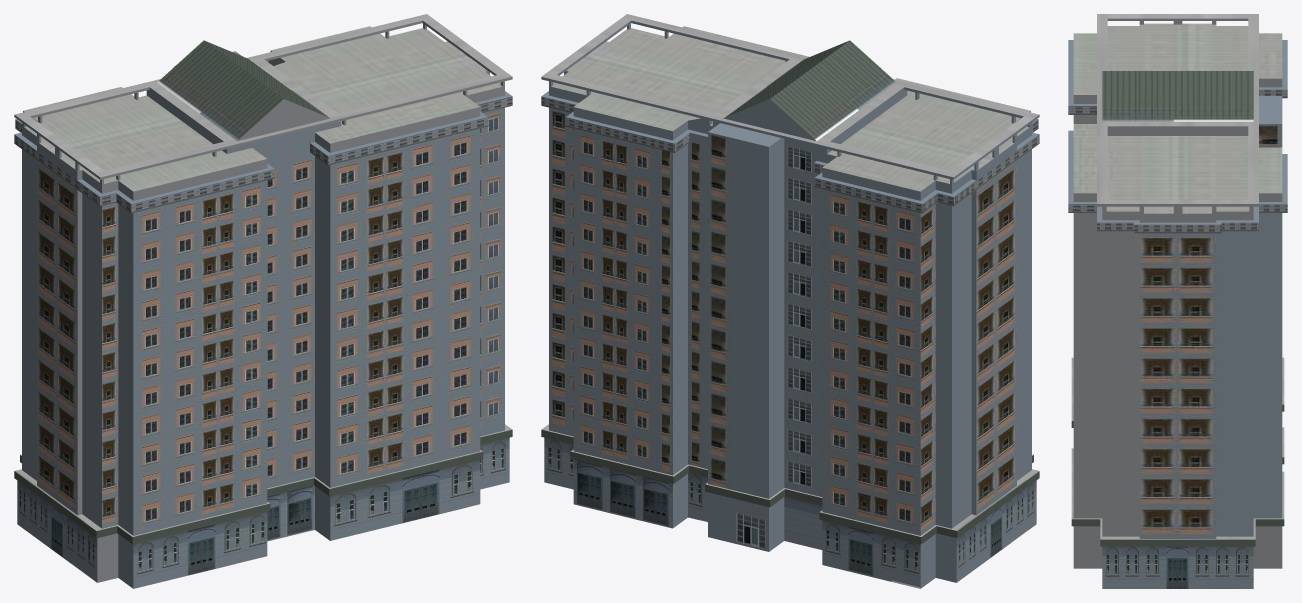
3 renders of one model, left to right at view 1: azimuth 30°, elevation 25°; view 2: azimuth 150°, elevation 25°; view 3: azimuth 270°, elevation 25°, orthographic. The views are drawn at different scales.
Visible parts, largest first — view 1: HN506___A6C_Nam_Trung_Yen; view 2: HN506___A6C_Nam_Trung_Yen; view 3: HN506___A6C_Nam_Trung_Yen.
Boxes of the visible parts, x1,y1,x2,y2 form: HN506___A6C_Nam_Trung_Yen: [14, 14, 512, 588]; HN506___A6C_Nam_Trung_Yen: [541, 14, 1039, 588]; HN506___A6C_Nam_Trung_Yen: [1068, 14, 1287, 588].
Bounding box in the file's own units: 42.62 × 42.61 × 20.46.
Materials: 1 (1 with a texture image).
